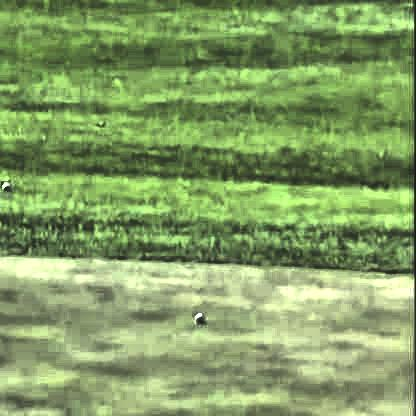golfball: (190, 309, 203, 320)
